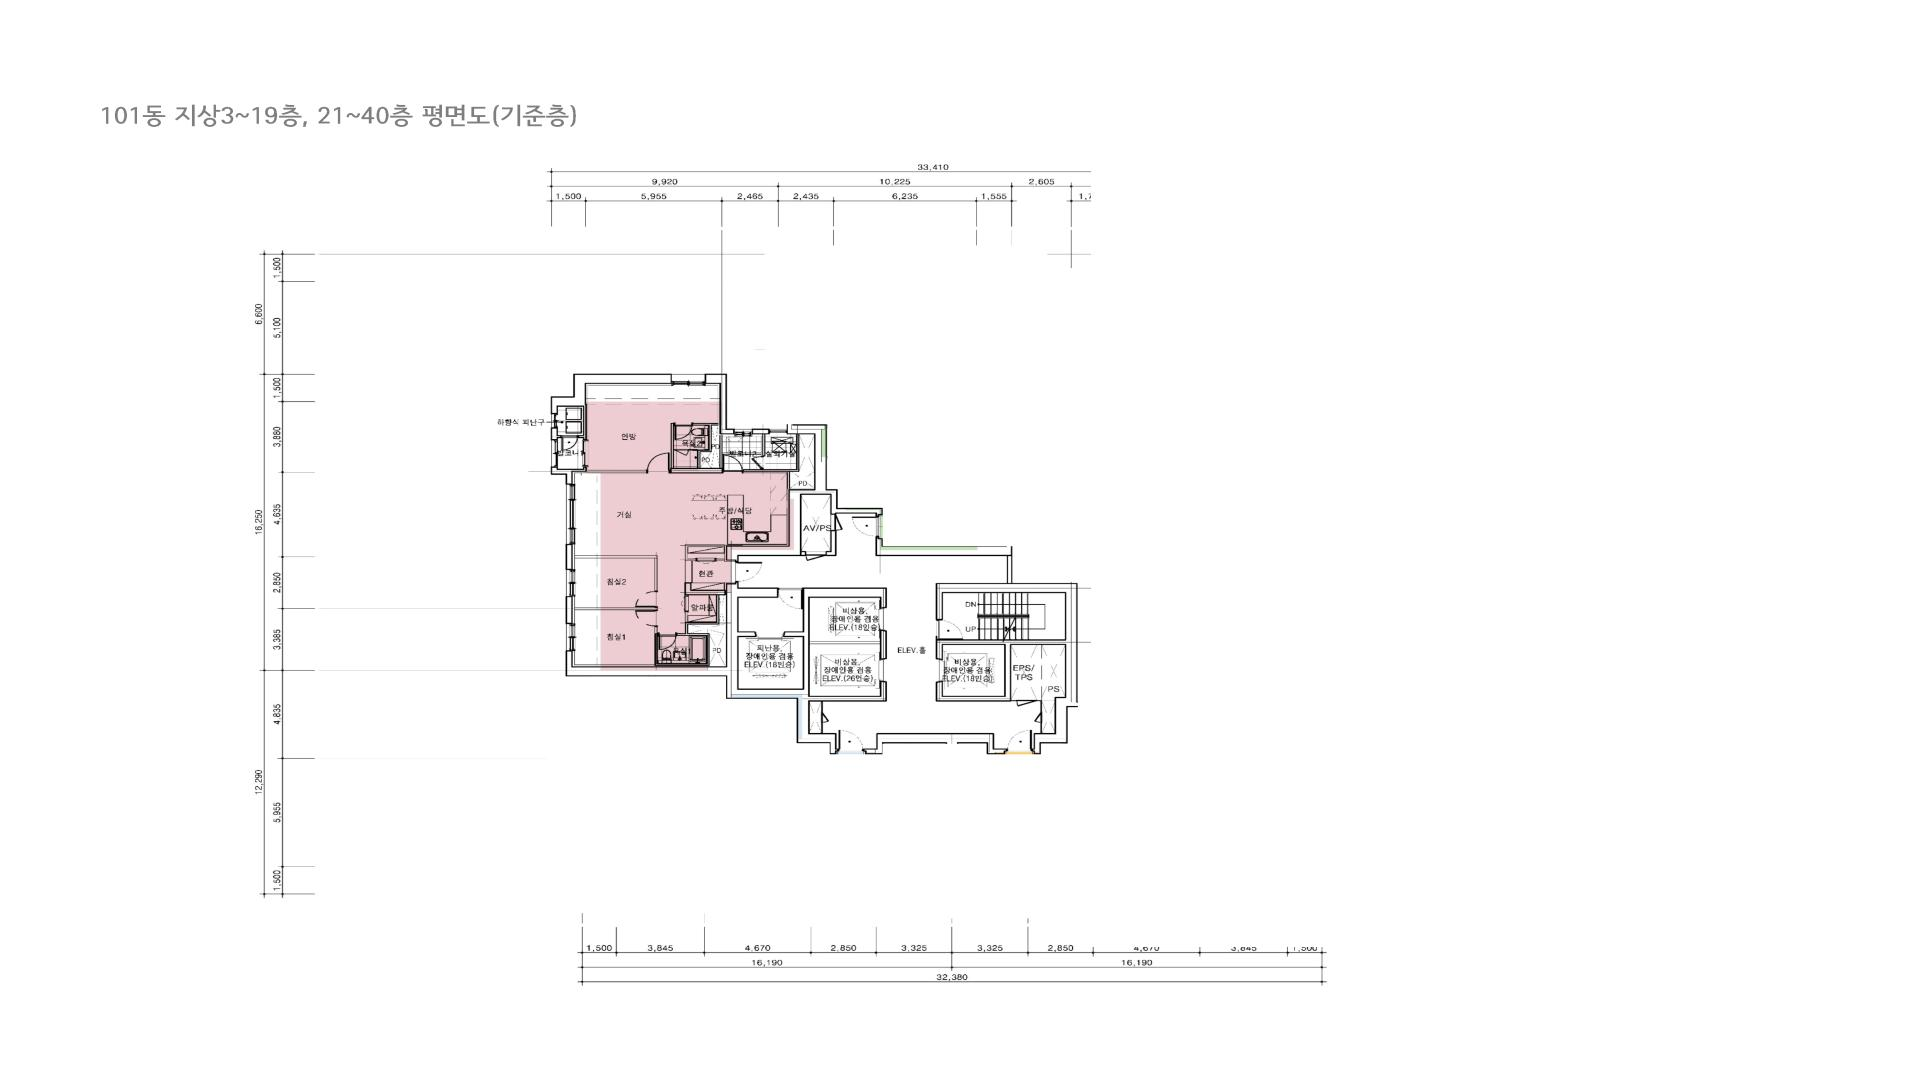door: (1006, 729, 1033, 752), (852, 516, 880, 537), (839, 729, 864, 752), (935, 620, 963, 640), (735, 562, 762, 582), (778, 587, 802, 609), (646, 452, 671, 473), (634, 611, 658, 628), (634, 591, 658, 608), (674, 422, 694, 440), (723, 455, 742, 473), (658, 633, 678, 650), (560, 435, 579, 451), (750, 456, 765, 469), (806, 554, 827, 562), (835, 513, 843, 531), (680, 595, 688, 612), (1017, 700, 1036, 707), (674, 450, 690, 456), (822, 712, 829, 723), (1034, 712, 1042, 723)
wall: (566, 582, 887, 754), (876, 537, 1077, 754), (725, 425, 882, 562), (551, 373, 671, 439), (654, 582, 725, 666), (742, 434, 799, 488), (864, 733, 1006, 754), (575, 555, 658, 591), (671, 423, 723, 473), (810, 629, 887, 661), (705, 373, 735, 434), (684, 545, 725, 560), (551, 467, 587, 484), (827, 531, 836, 556), (588, 469, 646, 473), (574, 608, 658, 611), (566, 596, 572, 624), (566, 545, 572, 570), (551, 427, 560, 440), (753, 429, 770, 434), (762, 434, 766, 455), (1036, 700, 1042, 712), (822, 702, 823, 712), (822, 723, 823, 733), (1040, 723, 1042, 733), (716, 559, 725, 560), (1011, 700, 1017, 702)
window: (566, 484, 575, 545), (671, 373, 705, 386), (566, 624, 575, 651), (566, 570, 575, 596), (582, 439, 588, 467), (551, 440, 558, 467), (735, 429, 753, 436), (770, 429, 787, 434), (551, 414, 558, 427)
